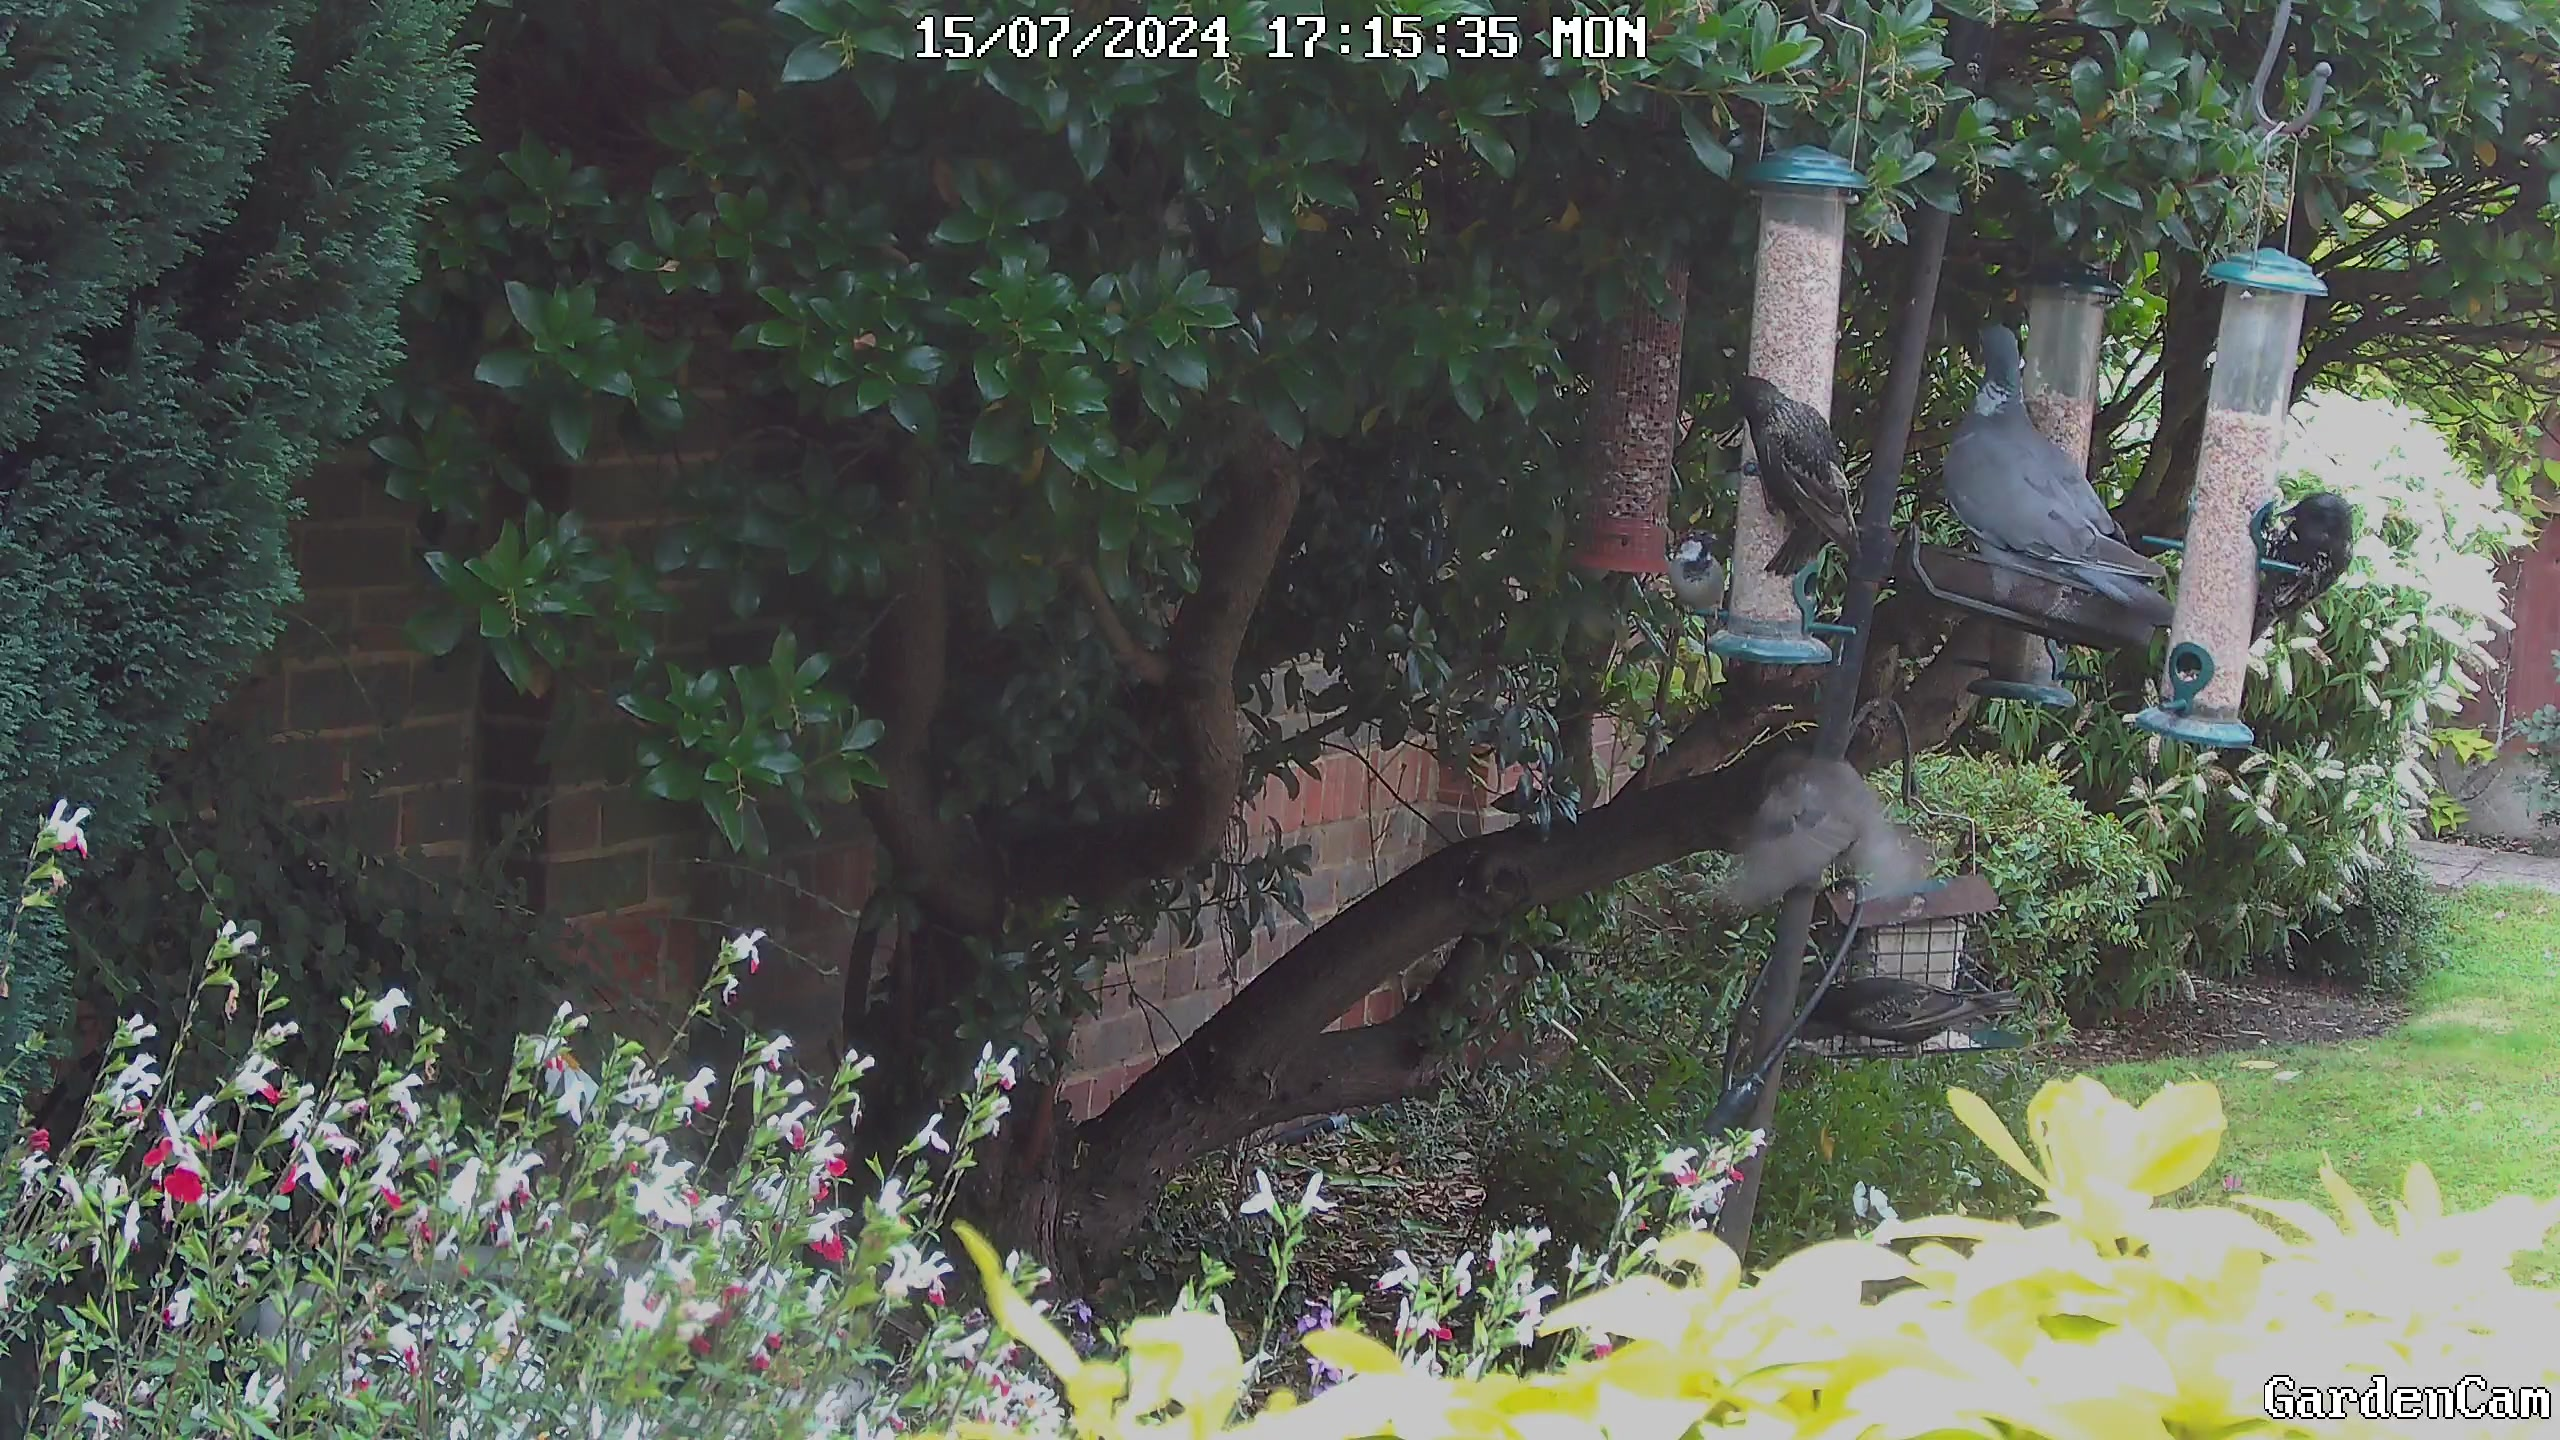Starling: (1697, 352, 1873, 594), (1788, 953, 1997, 1073), (2236, 482, 2360, 656)
Wood_Pigeon: (1922, 292, 2187, 628)
